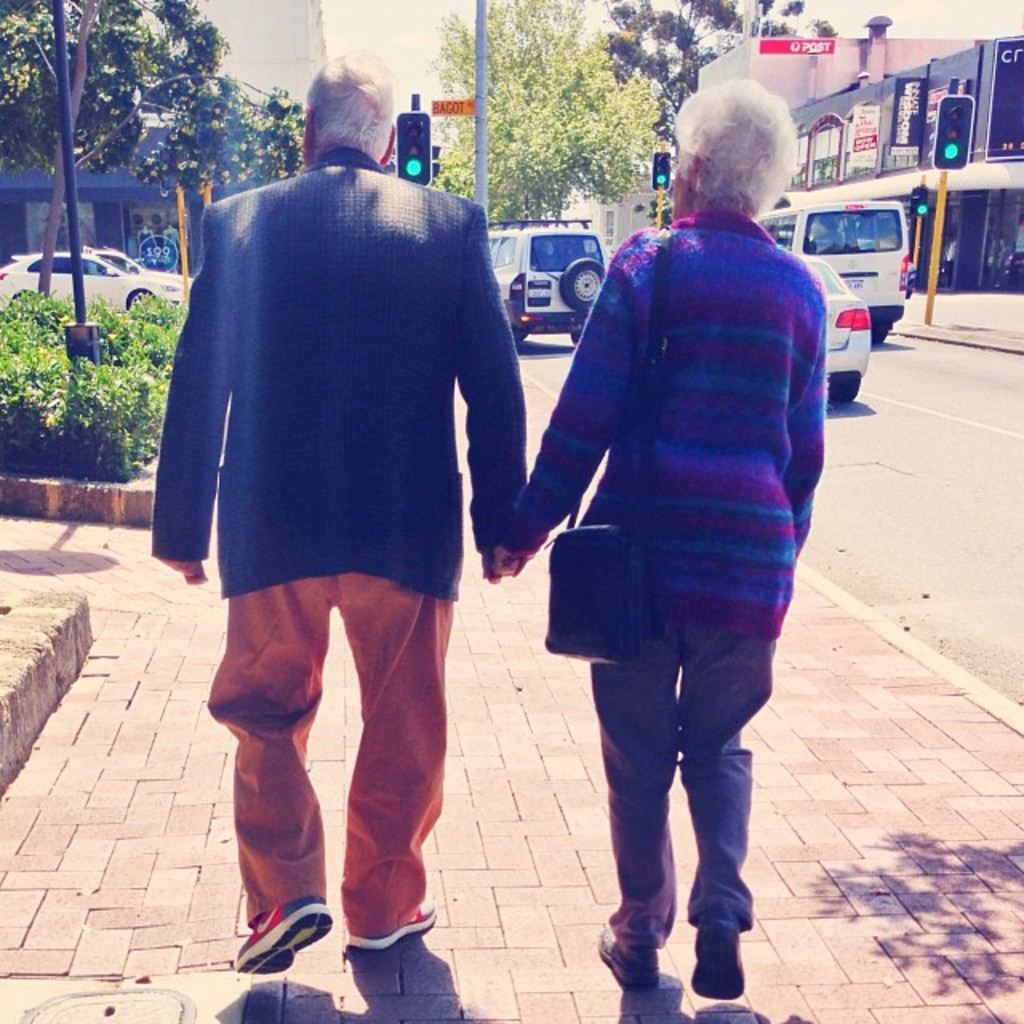Car: (478, 214, 609, 340), (790, 248, 871, 411), (0, 248, 193, 308), (86, 249, 193, 281)
